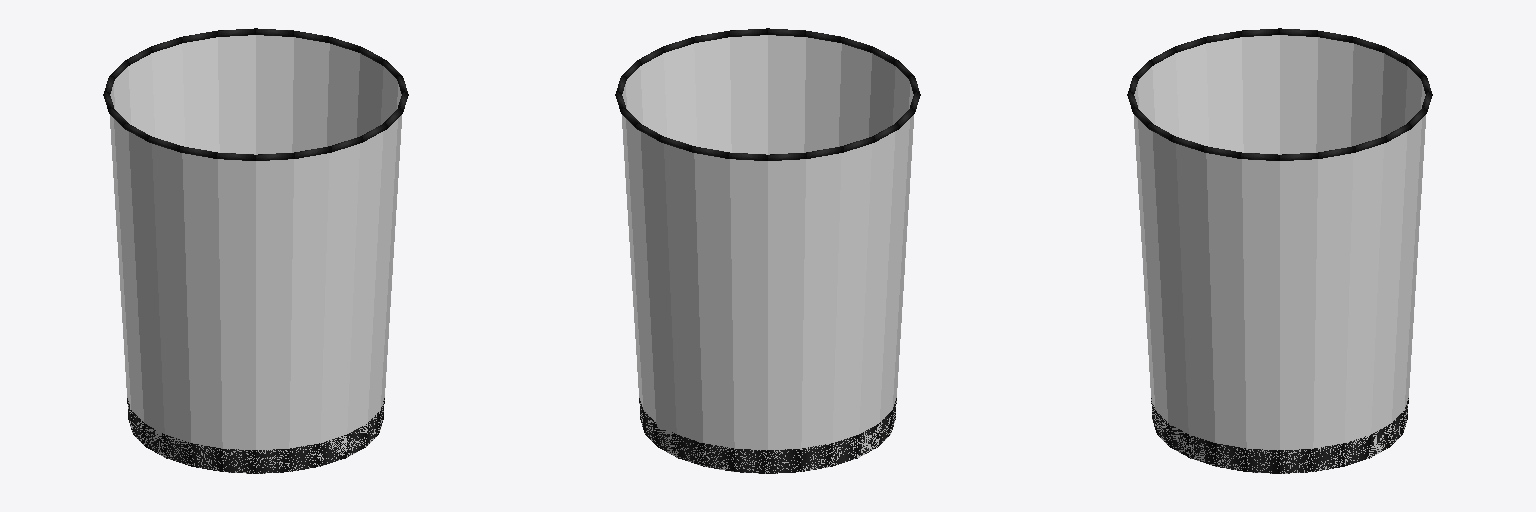
3 renders of one model, left to right at view 1: azimuth 30°, elevation 25°; view 2: azimuth 150°, elevation 25°; view 3: azimuth 270°, elevation 25°, orthographic.
Visible parts, largest first — view 1: mesh1_mesh1-geometry; view 2: mesh1_mesh1-geometry; view 3: mesh1_mesh1-geometry.
Boxes of the visible parts, x1=… form: mesh1_mesh1-geometry: x1=103, y1=28, x2=408, y2=473; mesh1_mesh1-geometry: x1=615, y1=28, x2=920, y2=473; mesh1_mesh1-geometry: x1=1127, y1=28, x2=1432, y2=473.
Size of the model in its own units: 0.5416 by 0.6428 by 0.5416.
3 materials, 1 textured.